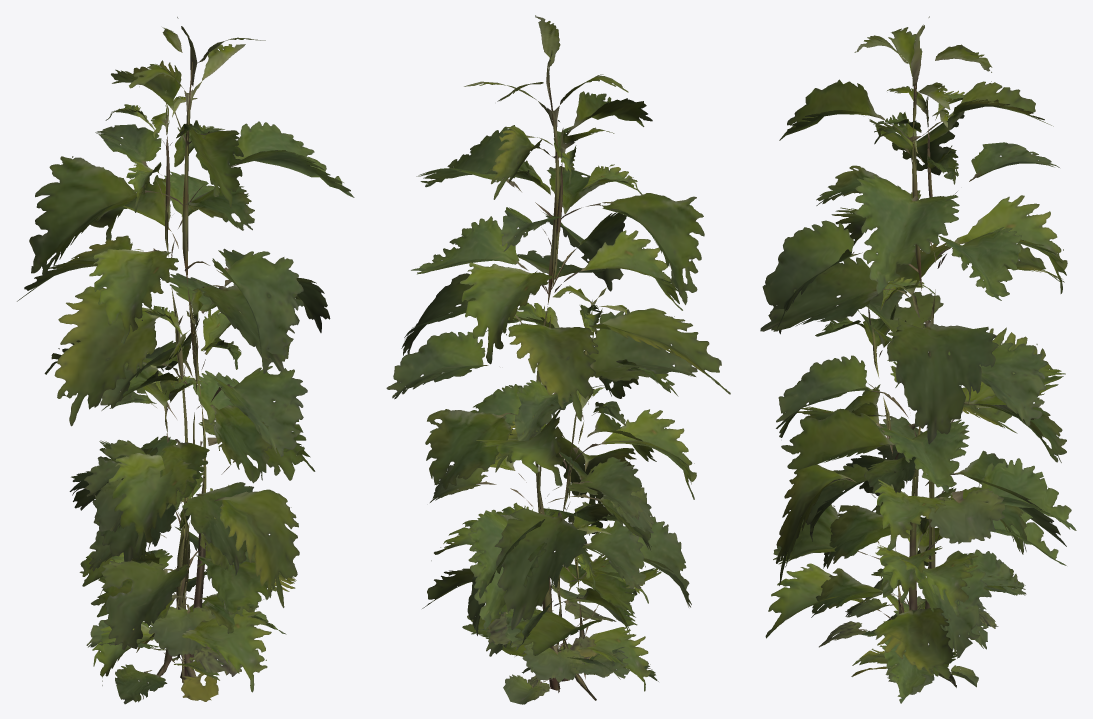
The model's file is nettle-plant.glb.
3 views of the same model, side by side, from view 1: azimuth 30°, elevation 25°; view 2: azimuth 150°, elevation 25°; view 3: azimuth 270°, elevation 25° (orthographic). The views are drawn at different scales.
Parts seen in each view (by area): view 1: nettle_plant_tall_a_LOD0, nettle_plant_medium_a_LOD0, nettle_plant_tall_b_LOD0, nettle_plant_medium_b_LOD0, nettle_plant_small_a_LOD0, nettle_plant_small_b_LOD0; view 2: nettle_plant_tall_a_LOD0, nettle_plant_tall_b_LOD0, nettle_plant_medium_a_LOD0, nettle_plant_medium_b_LOD0, nettle_plant_small_a_LOD0, nettle_plant_small_b_LOD0; view 3: nettle_plant_tall_a_LOD0, nettle_plant_tall_b_LOD0, nettle_plant_medium_a_LOD0, nettle_plant_medium_b_LOD0, nettle_plant_small_a_LOD0, nettle_plant_small_b_LOD0.
Boxes of the visible parts, left/top/right/bottom form: nettle_plant_tall_a_LOD0: left=29, top=17, right=354, bottom=679; nettle_plant_medium_a_LOD0: left=69, top=288, right=299, bottom=704; nettle_plant_tall_b_LOD0: left=17, top=90, right=306, bottom=677; nettle_plant_medium_b_LOD0: left=89, top=368, right=258, bottom=676; nettle_plant_small_a_LOD0: left=92, top=504, right=286, bottom=701; nettle_plant_small_b_LOD0: left=86, top=593, right=263, bottom=680; nettle_plant_tall_a_LOD0: left=401, top=15, right=730, bottom=690; nettle_plant_tall_b_LOD0: left=386, top=120, right=697, bottom=681; nettle_plant_medium_a_LOD0: left=430, top=285, right=696, bottom=681; nettle_plant_medium_b_LOD0: left=469, top=387, right=656, bottom=700; nettle_plant_small_a_LOD0: left=471, top=507, right=650, bottom=700; nettle_plant_small_b_LOD0: left=462, top=612, right=629, bottom=704; nettle_plant_tall_a_LOD0: left=762, top=16, right=1067, bottom=679; nettle_plant_tall_b_LOD0: left=760, top=86, right=1076, bottom=681; nettle_plant_medium_a_LOD0: left=765, top=277, right=1066, bottom=694; nettle_plant_medium_b_LOD0: left=806, top=360, right=1026, bottom=617; nettle_plant_small_a_LOD0: left=845, top=516, right=988, bottom=703; nettle_plant_small_b_LOD0: left=852, top=596, right=978, bottom=687.
Bounding box in the file's own units: 0.1036 × 0.2165 × 0.0927.
Materials: 6 (6 with a texture image).
